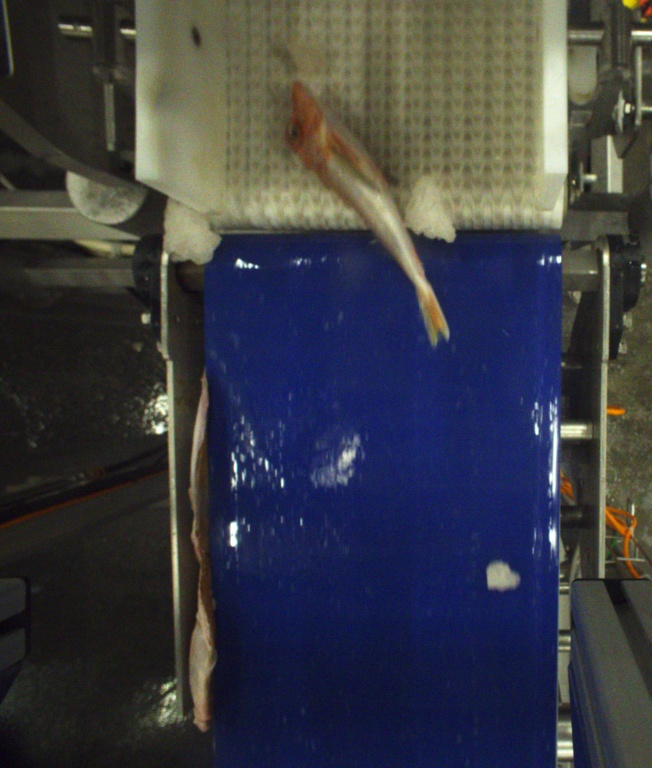GUU: (285, 80, 450, 348)
